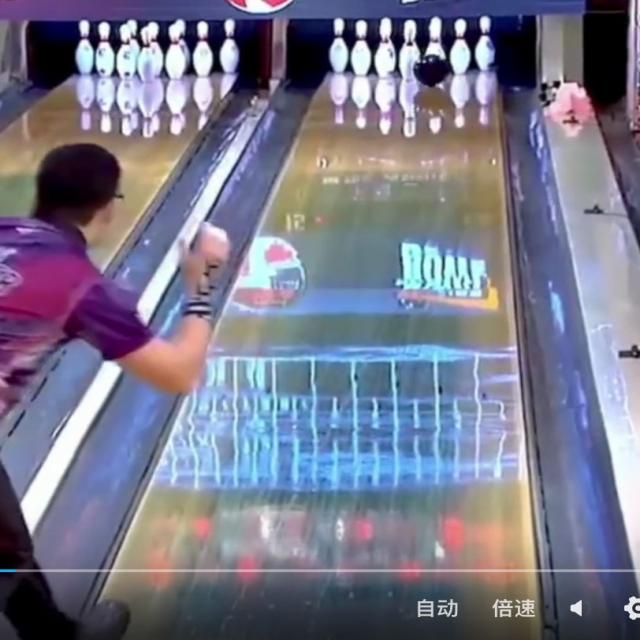alley: (101, 73, 541, 639)
balls: (415, 55, 449, 87)
bottle: (329, 18, 419, 78), (449, 19, 470, 74), (474, 16, 494, 70), (425, 18, 443, 57)
